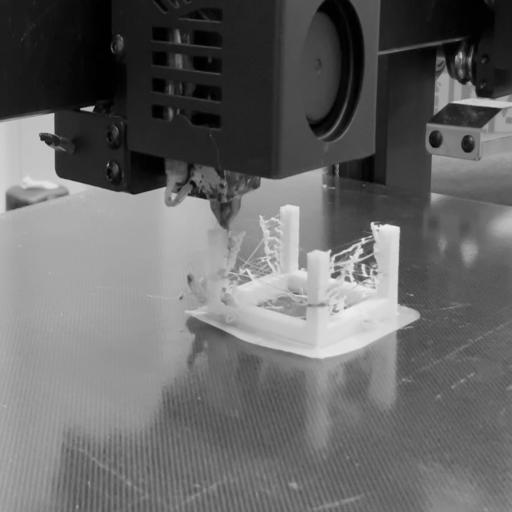spaghetti_and_stringing: (226, 221, 390, 287), (181, 275, 252, 308)
warp: (271, 331, 355, 371), (179, 311, 266, 345)
